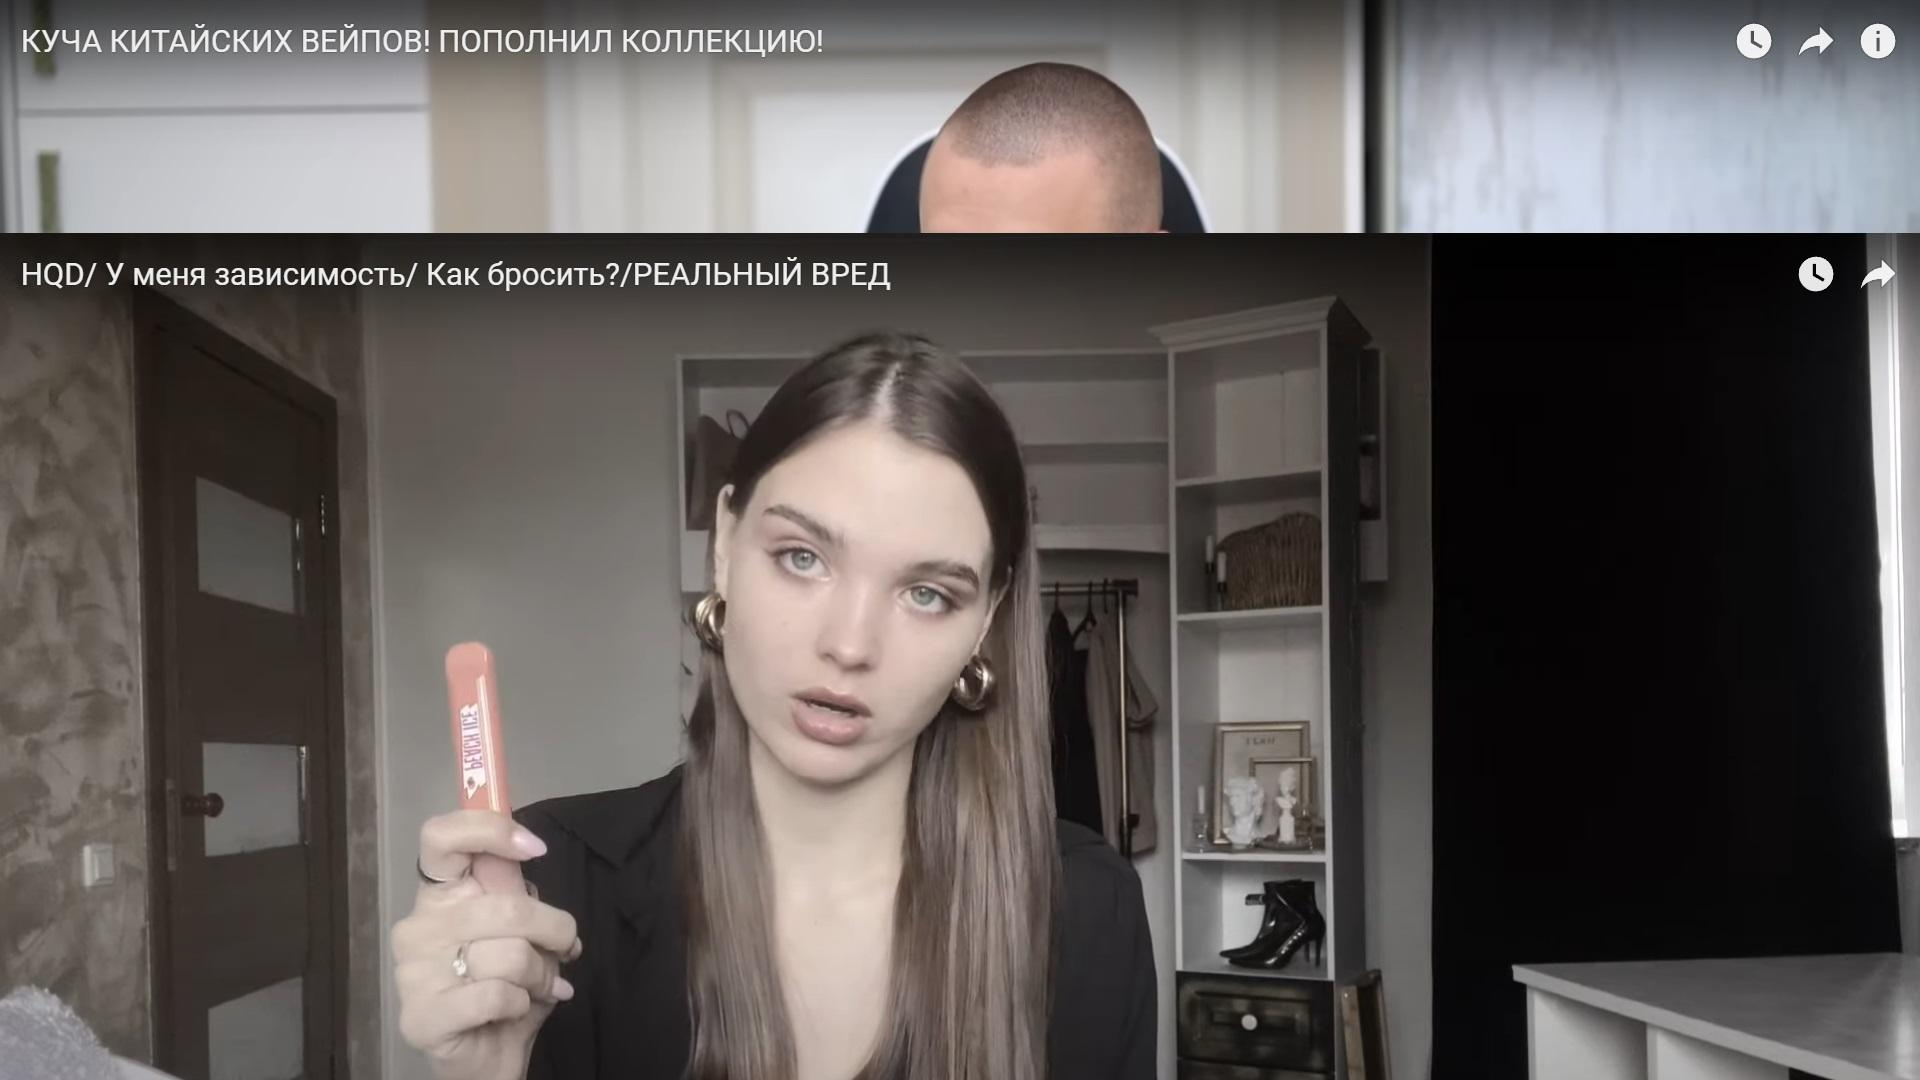Vape: (444, 642, 506, 814)
